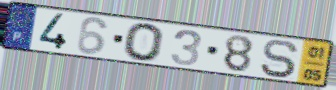3: (170, 28, 204, 66)
4: (36, 11, 70, 52)
6: (75, 16, 112, 57)
8: (223, 34, 255, 74)
O: (122, 22, 167, 63)
S: (258, 38, 301, 80)
